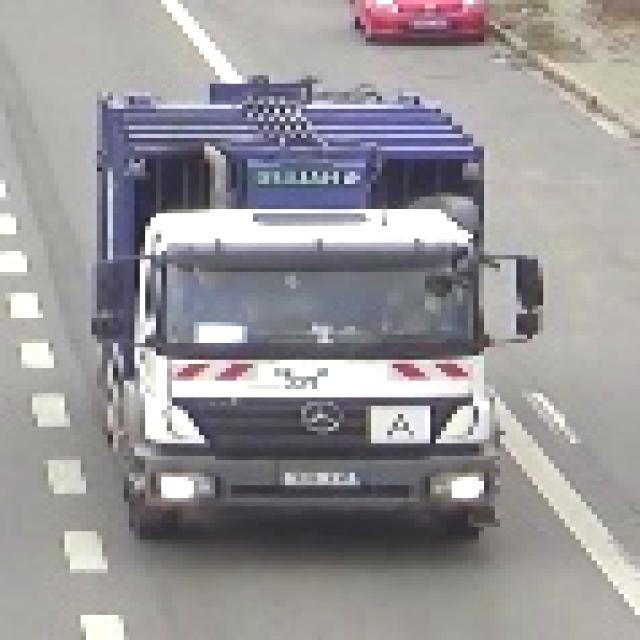truck: (82, 72, 544, 549)
